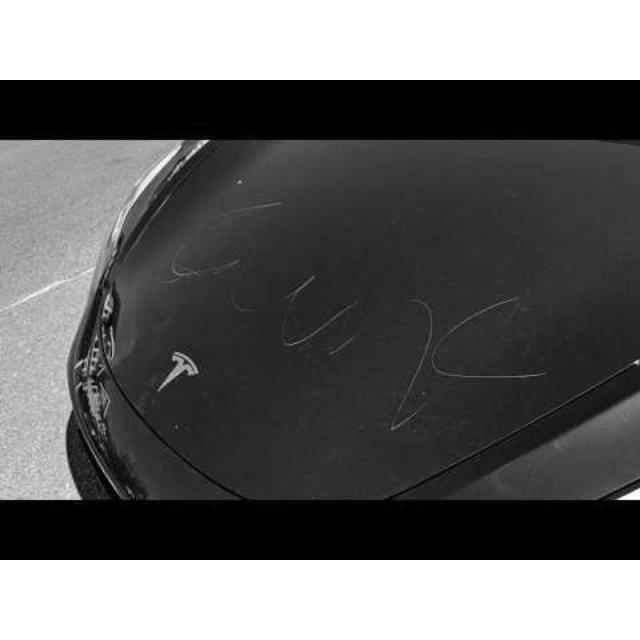bonnet-dent: (119, 136, 616, 442)
